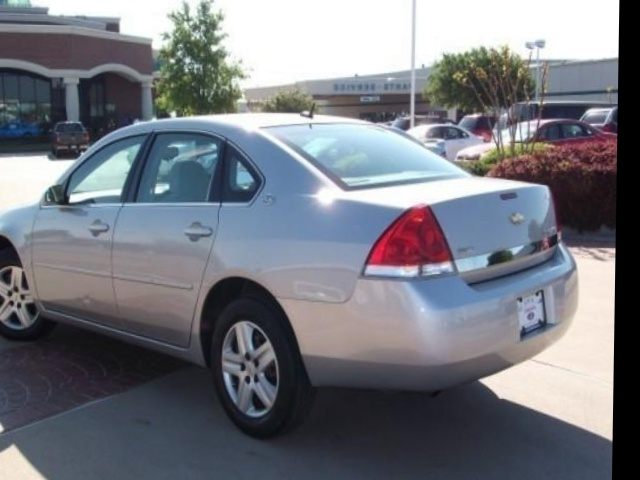car: (0, 92, 604, 437)
